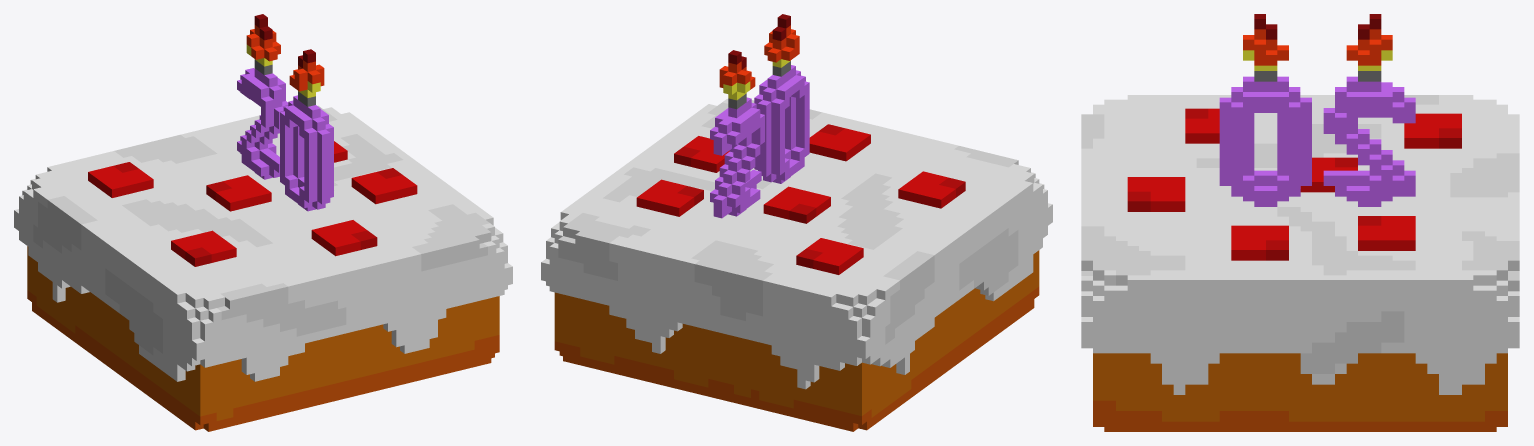
The model's file is cake0.glb.
3 views of the same model, side by side, from view 1: azimuth 30°, elevation 25°; view 2: azimuth 150°, elevation 25°; view 3: azimuth 270°, elevation 25° (orthographic). The views are drawn at different scales.
Visible parts, largest first — view 1: cake-1; view 2: cake-1; view 3: cake-1.
Part boxes in pixels (box(x1,y1,x2,y2)): cake-1: box(14, 14, 512, 431); cake-1: box(541, 14, 1052, 431); cake-1: box(1081, 14, 1519, 431).
Bounding box in the file's own units: 3.8 × 3.3 × 3.8.
Materials: 1 (1 with a texture image).
